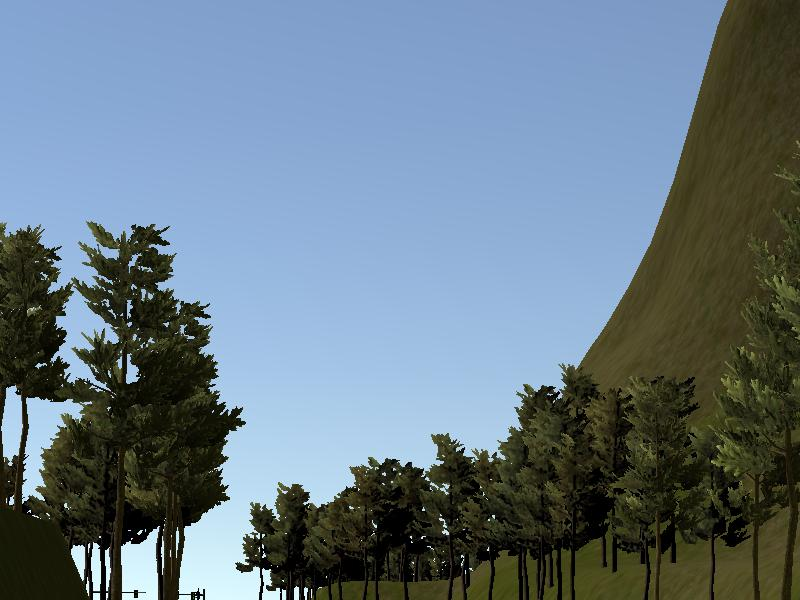background: (2, 1, 800, 584)
